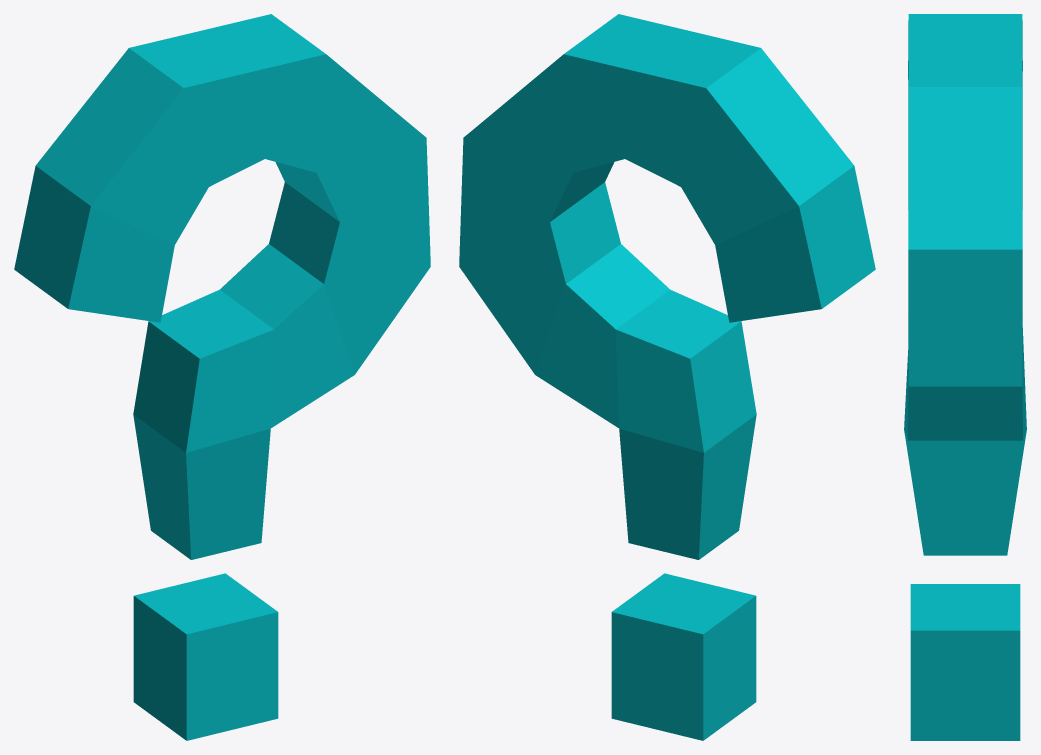
File: QuestionMark.fbx
3 renders of one model, left to right at view 1: azimuth 30°, elevation 25°; view 2: azimuth 150°, elevation 25°; view 3: azimuth 270°, elevation 25°, orthographic. The views are drawn at different scales.
Parts seen in each view (by area): view 1: Cube; view 2: Cube; view 3: Cube.
Part boxes in pixels (box(x1,y1,x2,y2)): Cube: box(14, 14, 430, 740); Cube: box(459, 14, 875, 740); Cube: box(904, 14, 1026, 740).
Bounding box in the file's own units: 83.68 × 23.71 × 144.
